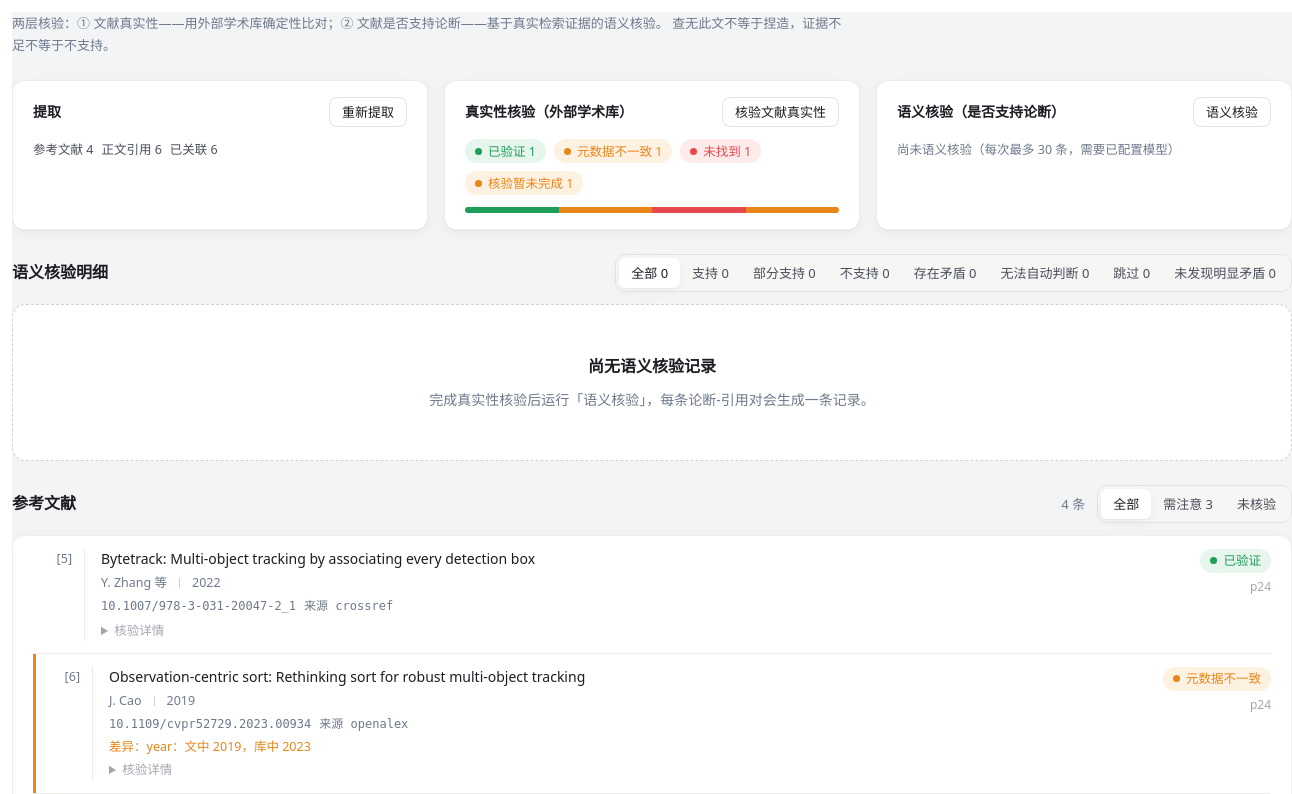
it: CitationsPanel：状态行与核验详情 › 核验详情默认折叠；展开后列出各库结果 / 匹配标题 / DOI / 检查时间，不显示内部诊断 note
Click the heading "核验详情" below "10.1007/978-3-031-20047-2_1": (139, 630) [114,622,164,639]
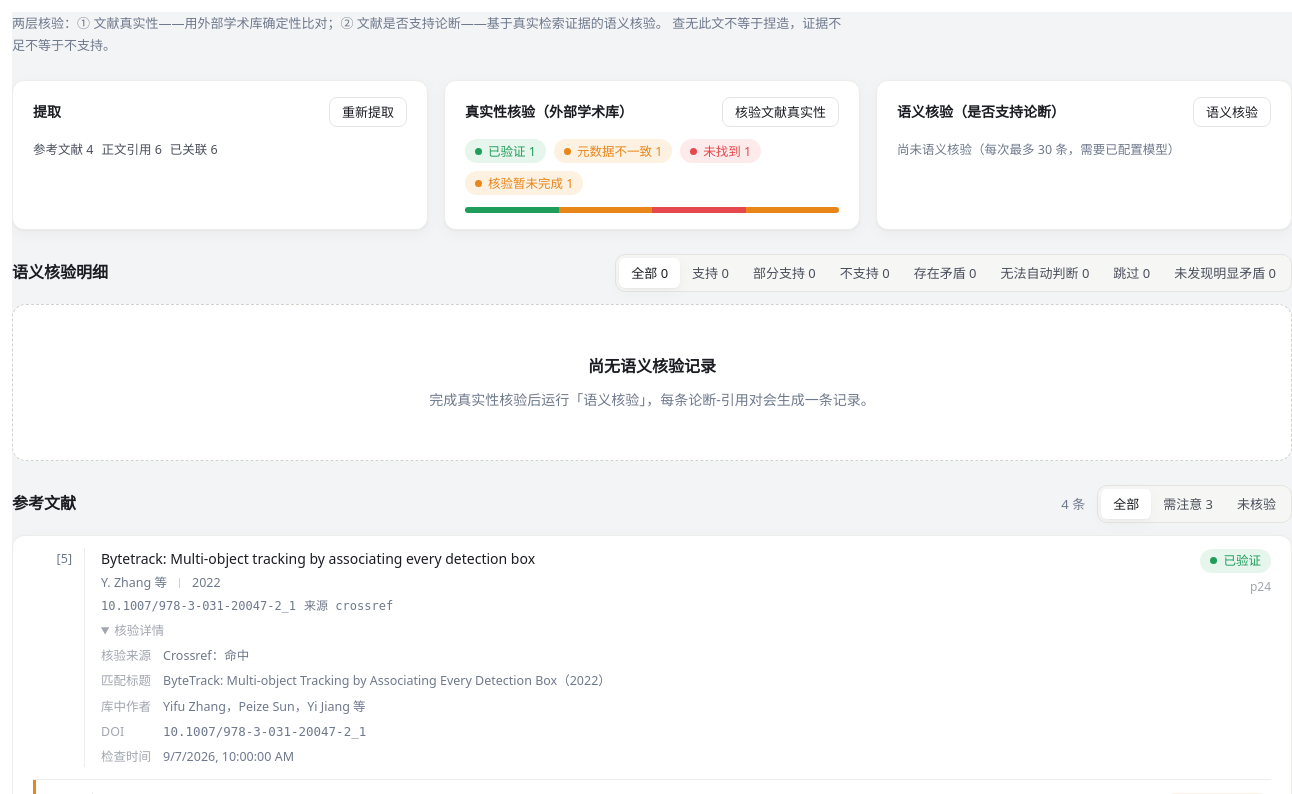
Now the text "Crossref：命中" is shown, box [163,647,249,664]
Now the text "ByteTrack: Multi-object Tracking by Associating Every Detection Box（2022）" is shown, box [163,672,611,689]
Now the text "10.1007/978-3-031-20047-2_1" is shown, box [163,724,366,739]
